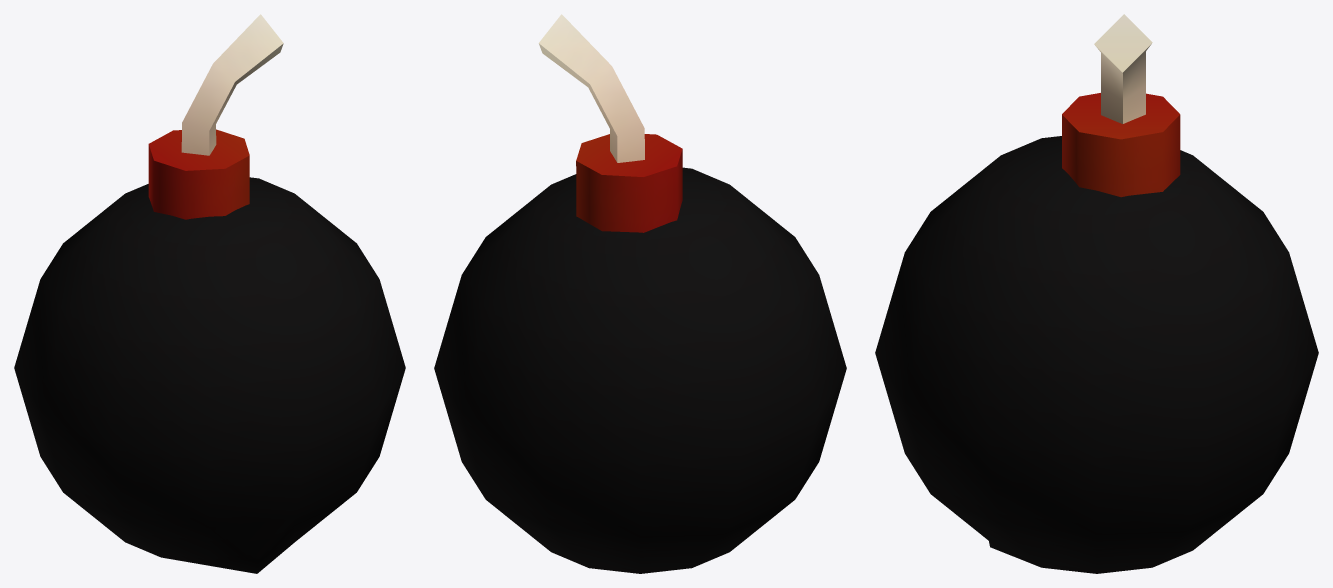
File: Mon_Bomb.fbx
3 views of the same model, side by side, from view 1: azimuth 30°, elevation 25°; view 2: azimuth 150°, elevation 25°; view 3: azimuth 270°, elevation 25° (orthographic). The views are drawn at different scales.
Parts seen in each view (by area): view 1: Bomb; view 2: Bomb; view 3: Bomb.
Part boxes in pixels (left/top/right/bottom): Bomb: left=14, top=14, right=405, bottom=573; Bomb: left=434, top=14, right=846, bottom=573; Bomb: left=875, top=14, right=1318, bottom=573.
Size of the model in its own units: 80.75 by 114 by 80.75.
